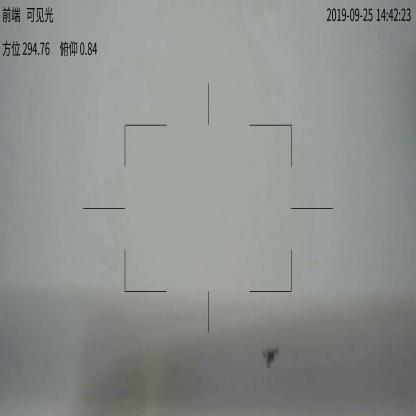uav: (262, 346, 281, 369)
